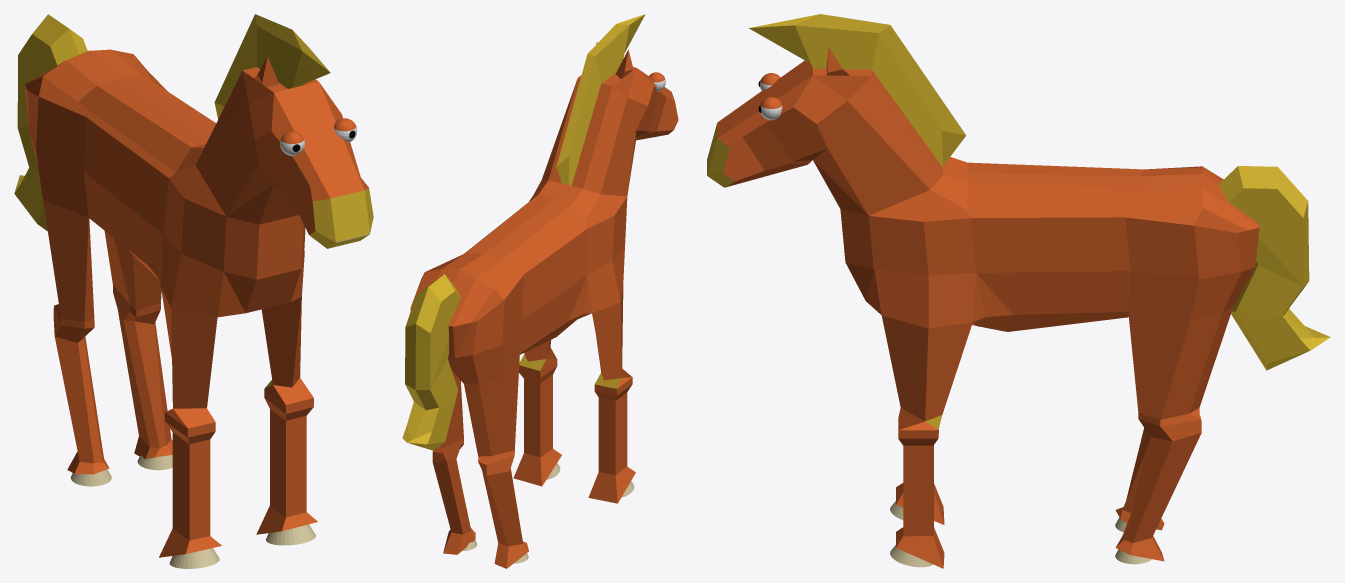
Rendered from FixOrangeHorse.fbx.
3 views of the same model, side by side, from view 1: azimuth 30°, elevation 25°; view 2: azimuth 150°, elevation 25°; view 3: azimuth 270°, elevation 25° (orthographic). The views are drawn at different scales.
Parts seen in each view (by area): view 1: Cube; view 2: Cube; view 3: Cube.
Boxes of the visible parts, box(x1,y1,x2,y2) form: Cube: box(14, 14, 373, 568); Cube: box(402, 14, 678, 568); Cube: box(707, 14, 1330, 568).
Size of the model in its own units: 104 by 401 by 429.
